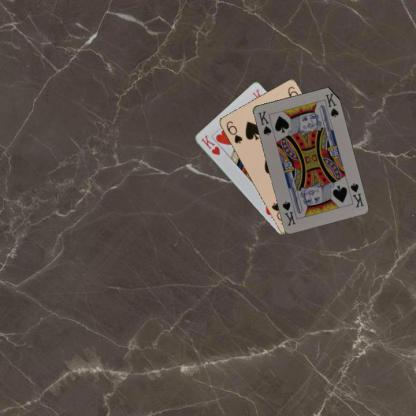6s: (224, 118, 243, 145)
Kh: (198, 132, 221, 157)
Ks: (347, 180, 365, 209), (255, 108, 273, 136)
